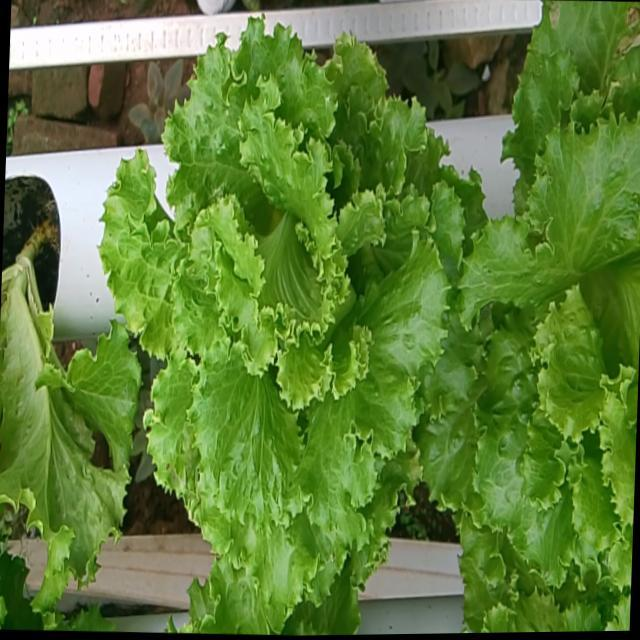Mature: (111, 5, 474, 588), (429, 95, 640, 572)
